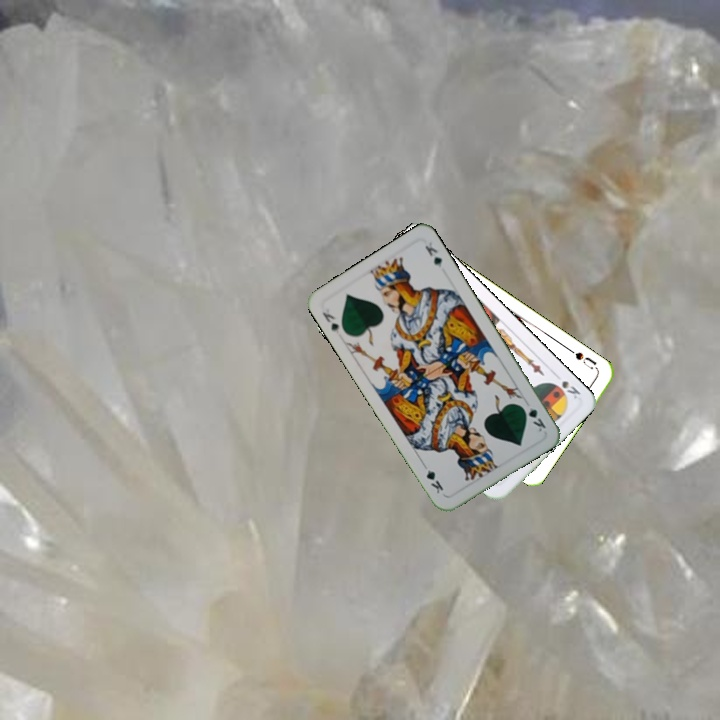GK: (517, 401, 548, 434), (318, 305, 345, 340)
SK: (550, 369, 583, 402)
SU: (565, 345, 600, 373)
